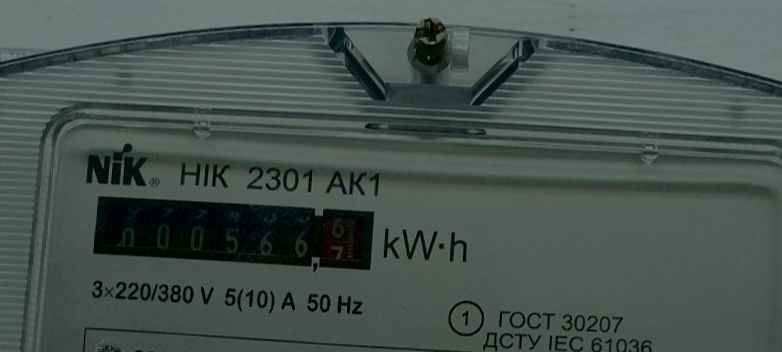0: (186, 223, 205, 253), (152, 220, 170, 250), (116, 223, 136, 247)
5: (221, 225, 240, 255)
6: (290, 226, 310, 258), (254, 227, 274, 256), (328, 215, 346, 241)
7: (326, 243, 343, 262)
9: (121, 201, 140, 222)
screen: (82, 187, 379, 279)
